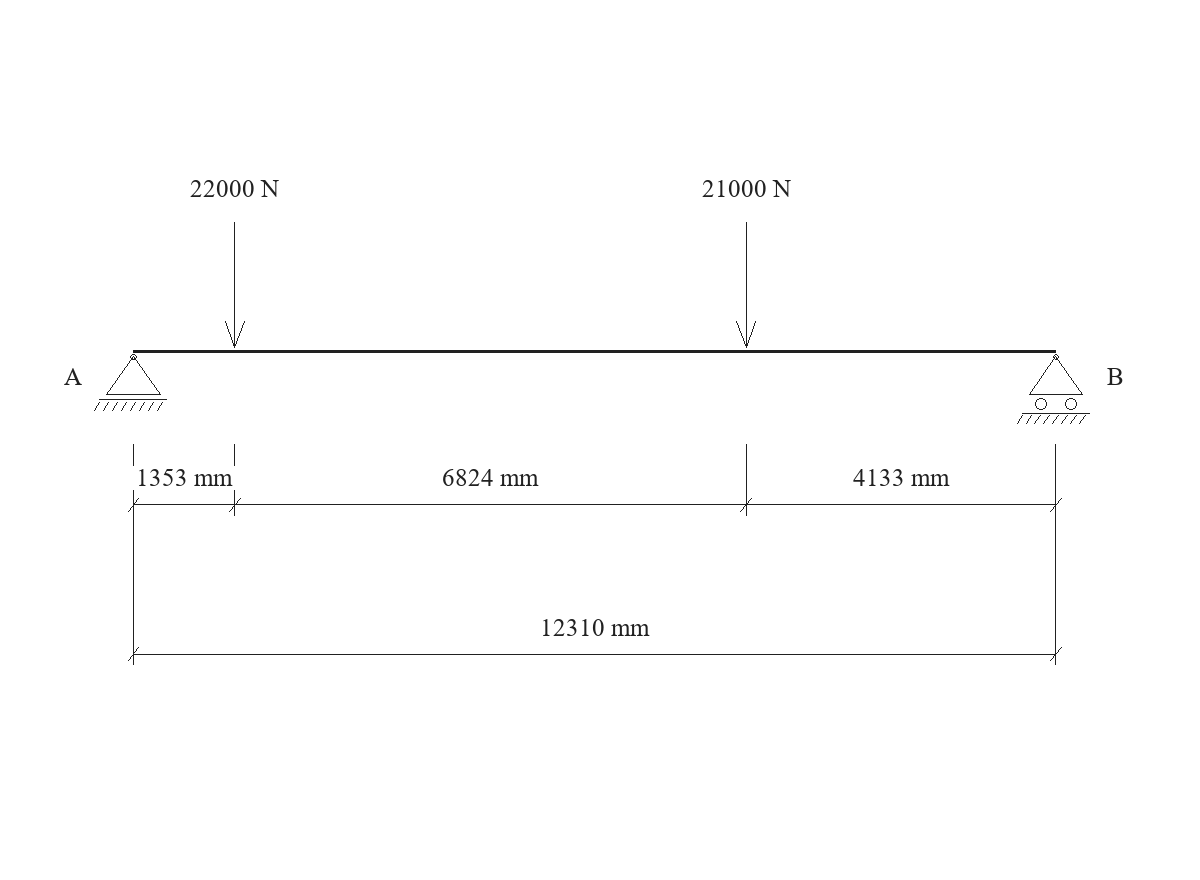pin_support: (94, 354, 167, 411)
point_load: (225, 222, 245, 348), (736, 222, 756, 348)
roller_support: (1017, 354, 1090, 424)
